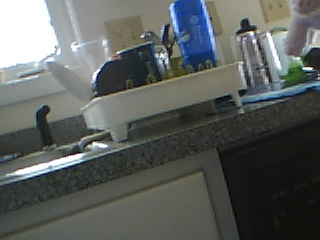piggy: (282, 1, 320, 59)
